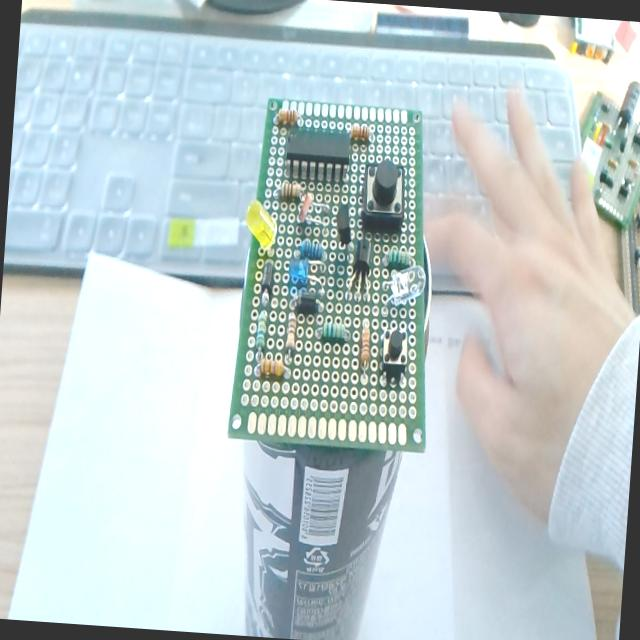IC: (284, 129, 353, 184)
cds: (296, 192, 330, 226)
diode: (259, 253, 277, 299), (293, 290, 320, 317)
led: (381, 262, 427, 310), (244, 196, 278, 251), (284, 258, 329, 288)
resistor: (386, 247, 412, 270), (359, 321, 372, 366), (255, 309, 268, 354), (260, 356, 284, 380), (298, 238, 324, 260), (285, 312, 297, 354), (324, 320, 347, 340), (276, 107, 298, 126), (282, 180, 302, 200), (350, 124, 370, 142)
switch: (358, 158, 408, 232), (378, 325, 409, 386)
transistor: (348, 236, 372, 298), (334, 202, 354, 243)
